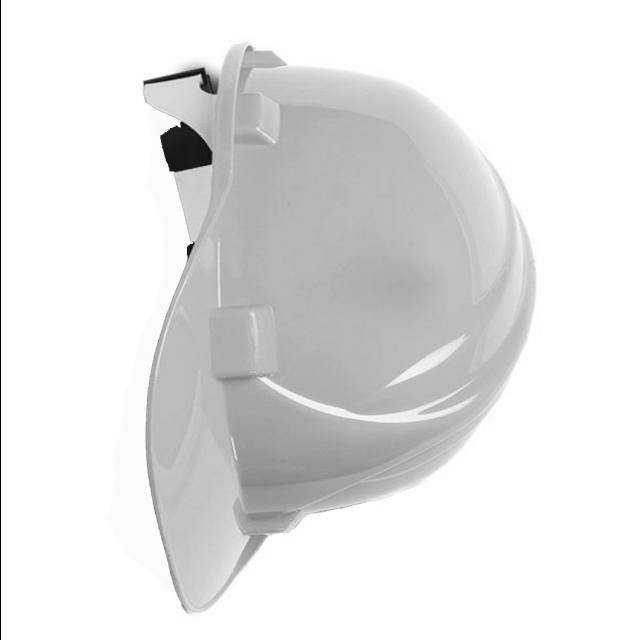safety_helmet: (141, 42, 535, 616)
